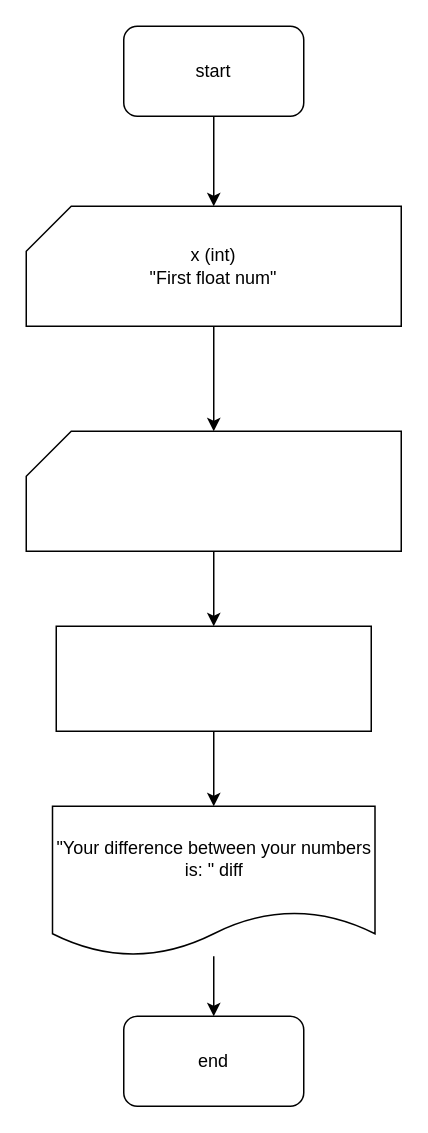
This 428x1133 diagram has some shape labels left out. The box of each missing label's shape, as (x1, y1, x2, y2) in pixels:
diff (float) x - y: (55, 625, 371, 731)
y (iny) "Second float num": (25, 430, 401, 551)
